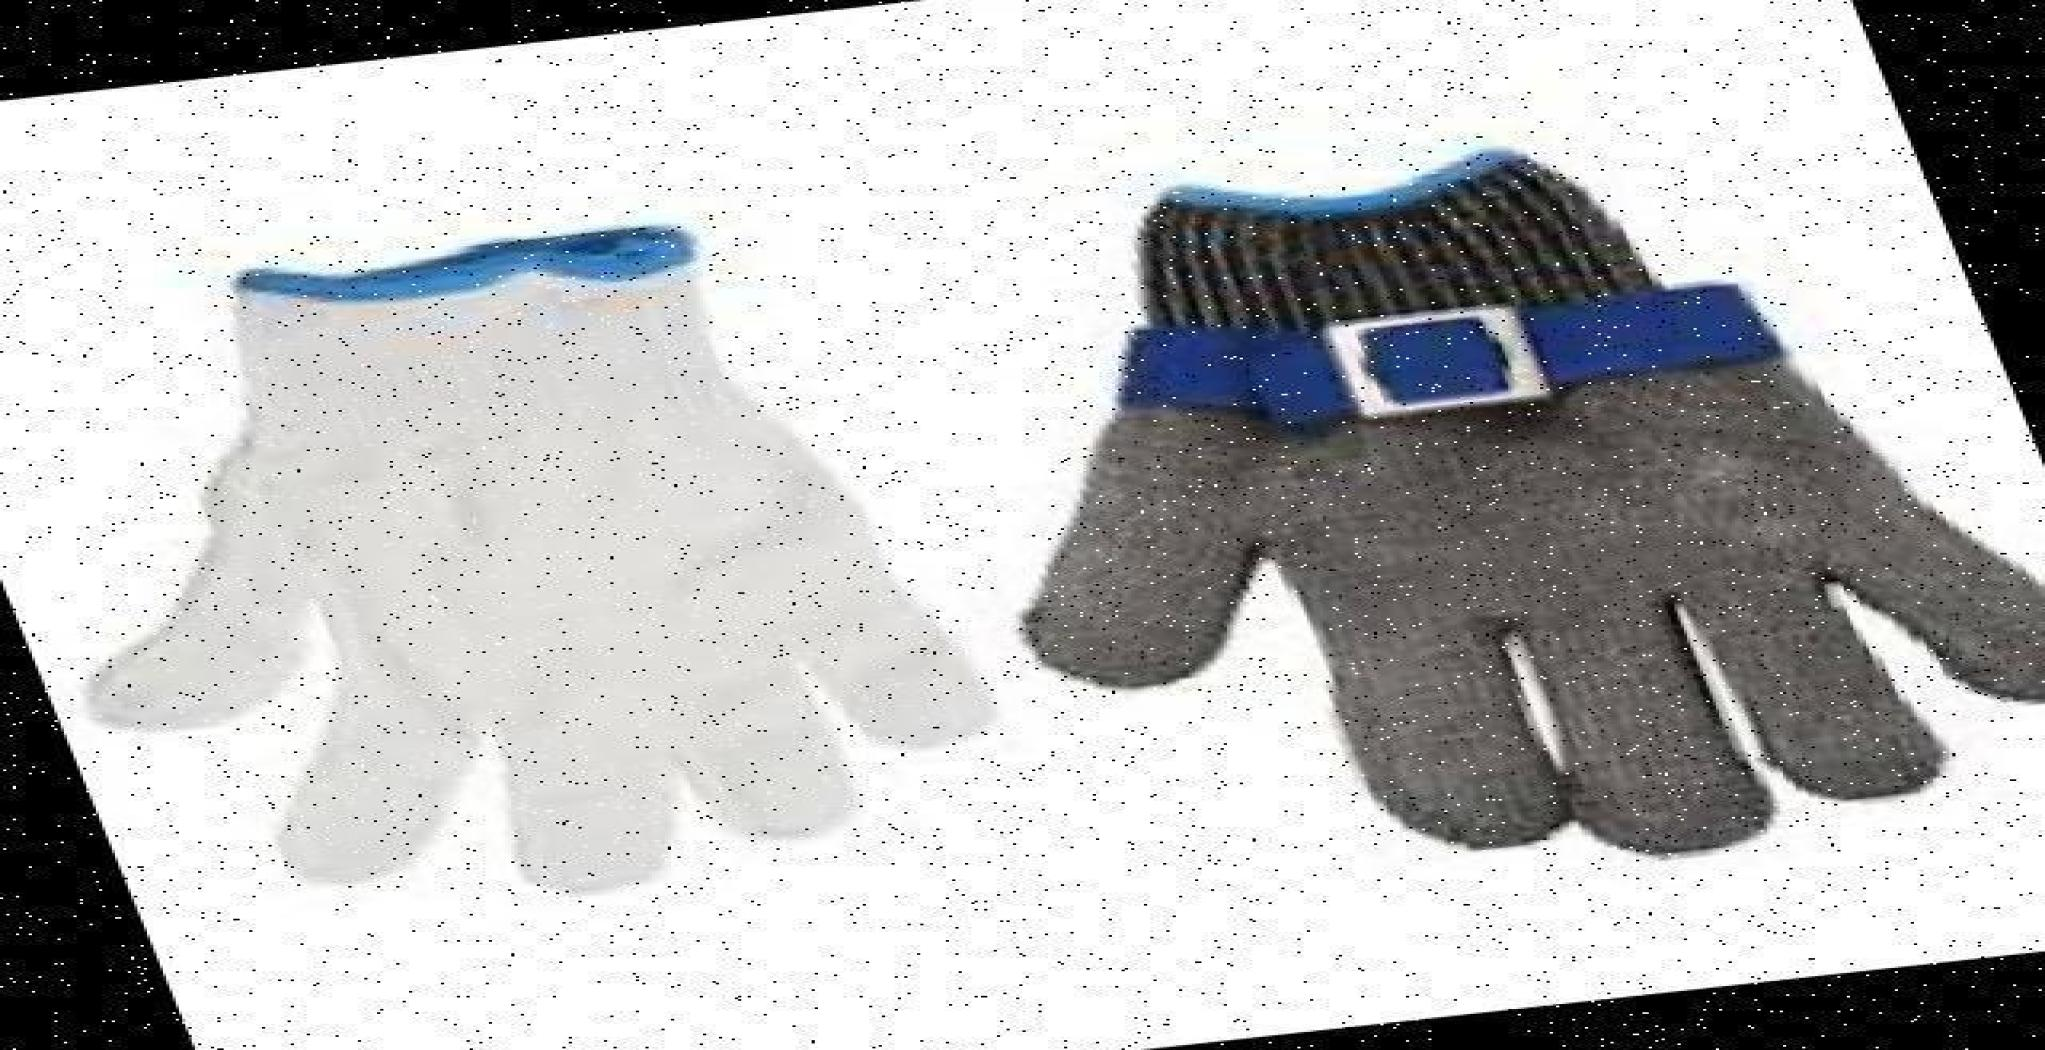gloved: (1112, 201, 2038, 844), (241, 271, 994, 871)
